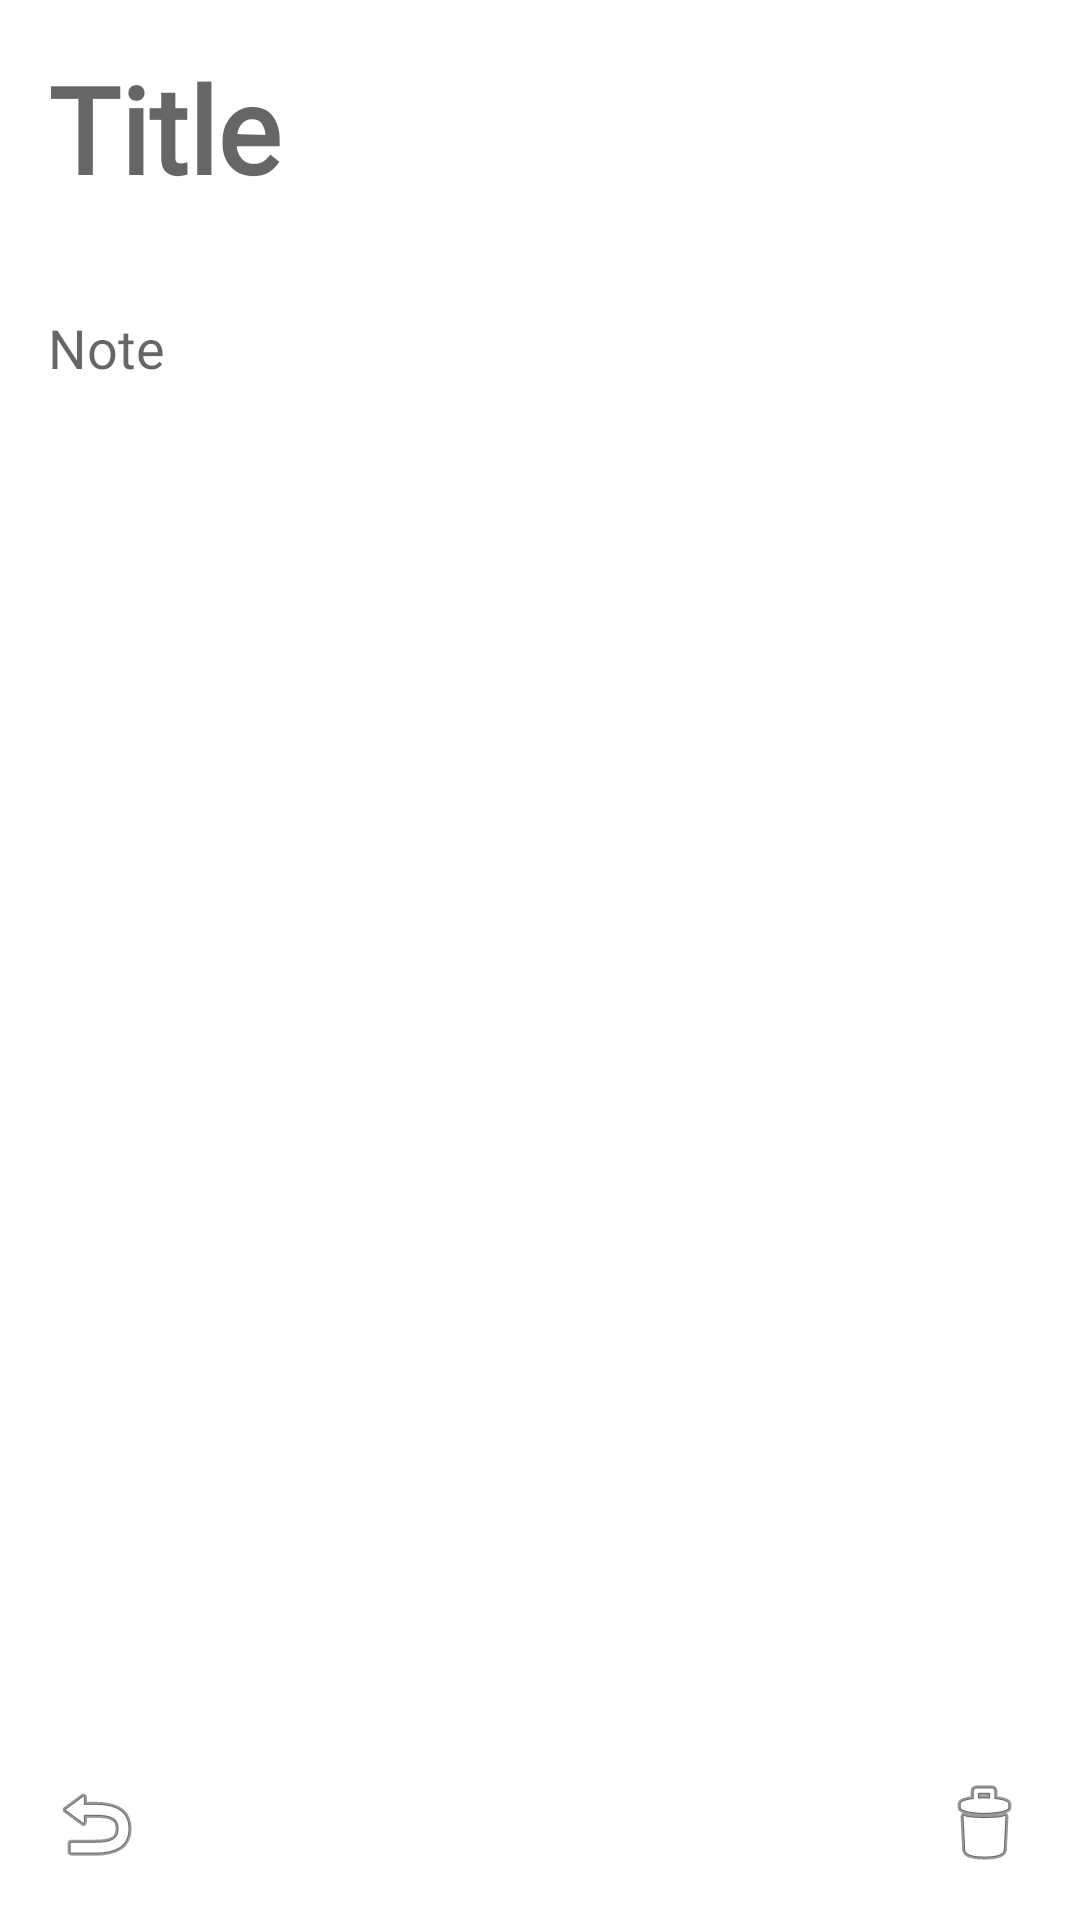

Where icons sit on this 1080 × 1920 app screen, as [left=x1, top=y1, right=x2, bottom=y2]:
delete: [left=957, top=1785, right=1012, bottom=1860]
revert: [left=63, top=1793, right=132, bottom=1856]
